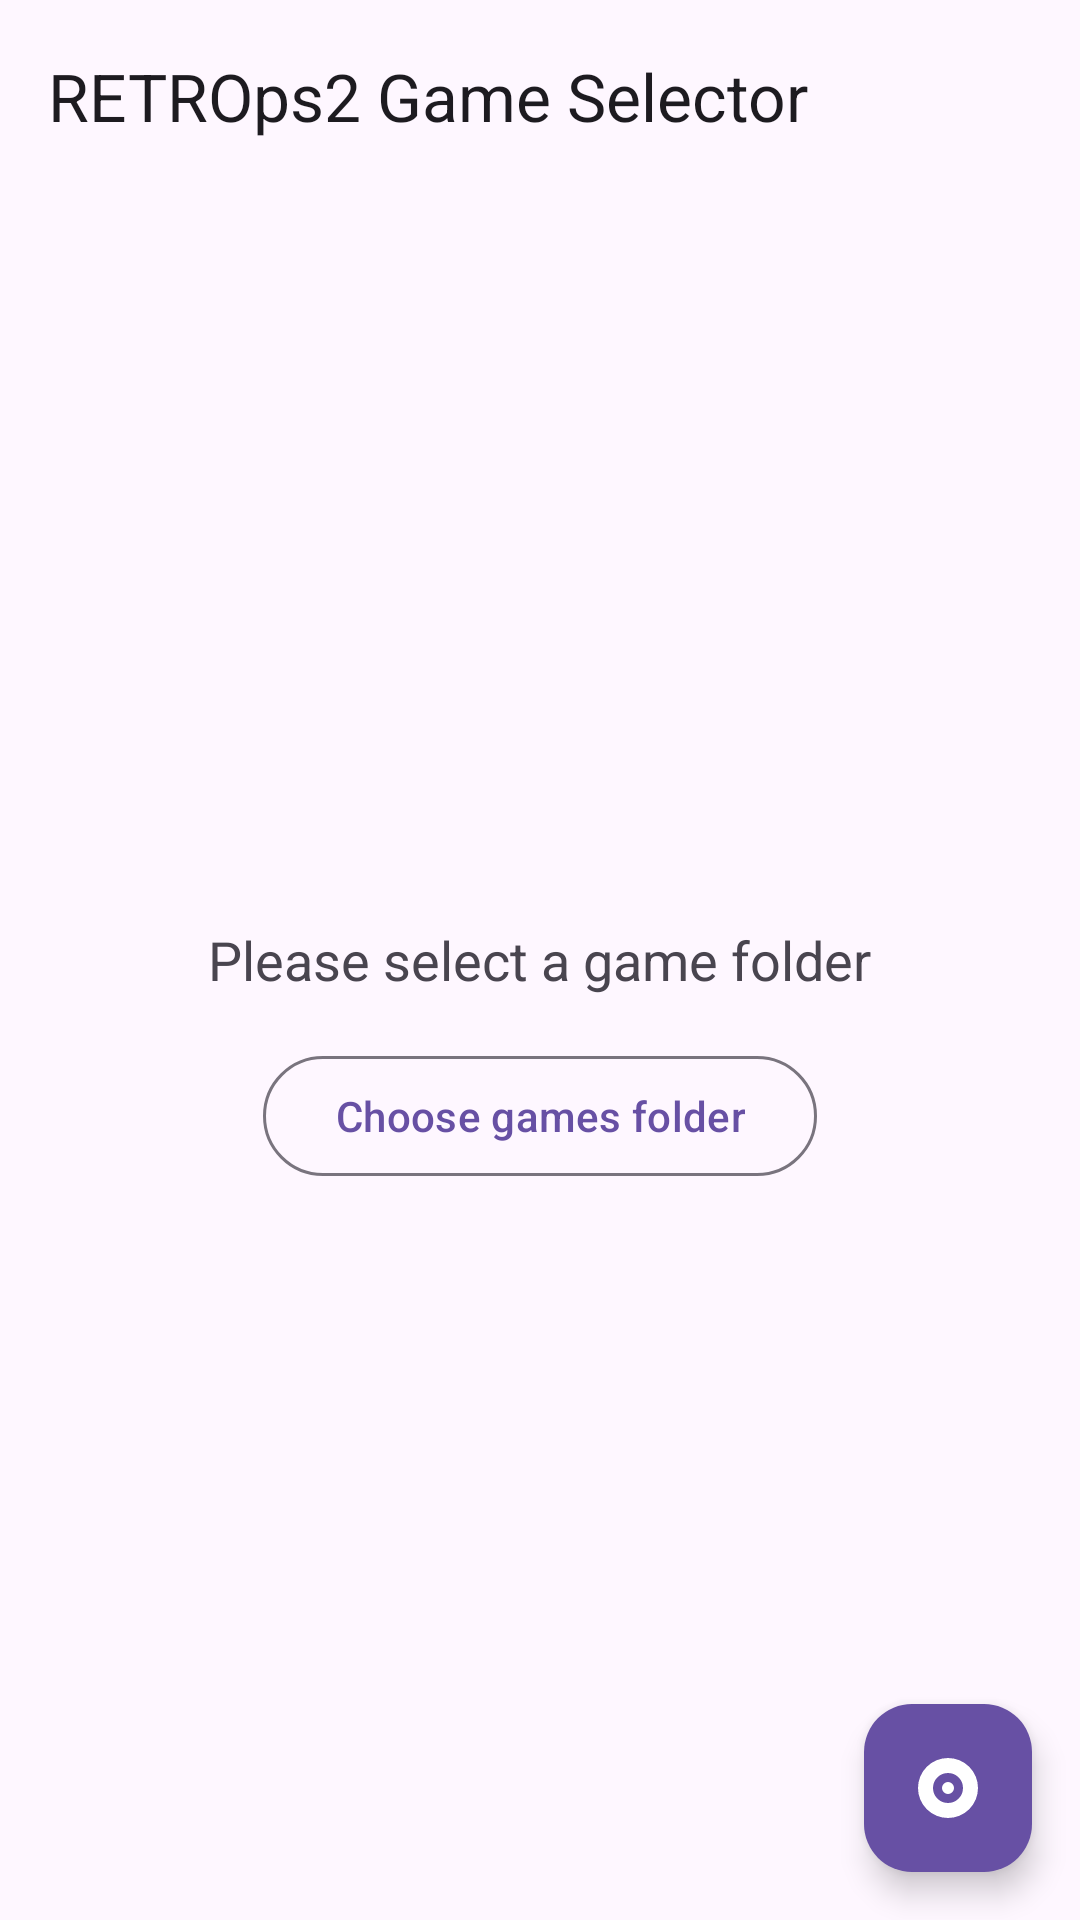

Screen size 1080 x 1920. Icon name, then its center in pixels as (x,y):
Actions: (948,1788)
